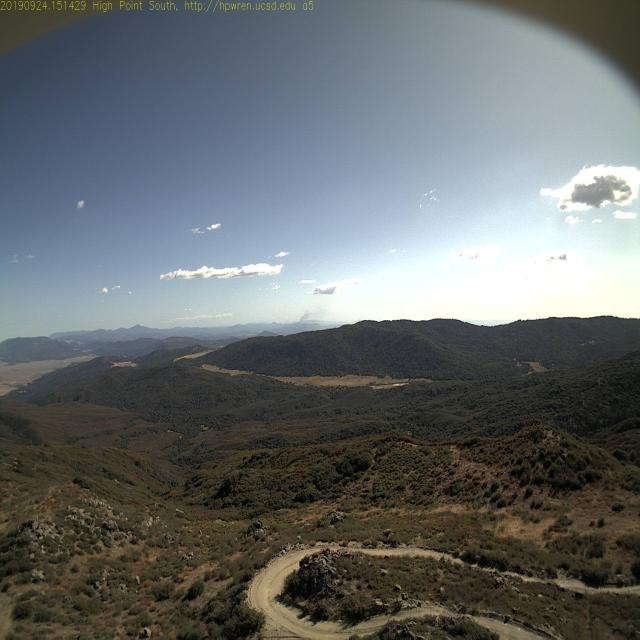smoke: (294, 306, 318, 323)
